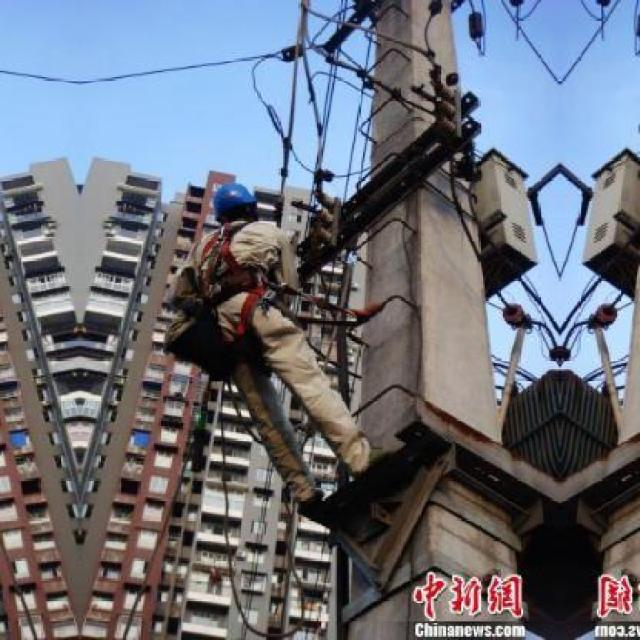helmet: (212, 178, 259, 232)
